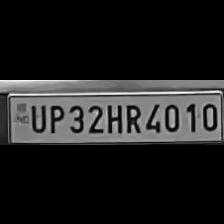0: (160, 99, 180, 131), (198, 99, 218, 130)
1: (180, 99, 198, 131)
2: (84, 100, 104, 134)
3: (65, 100, 84, 134)
4: (142, 100, 162, 132)
H: (104, 99, 122, 133)
P: (46, 100, 64, 134)
R: (121, 99, 139, 133)
U: (27, 100, 45, 132)
